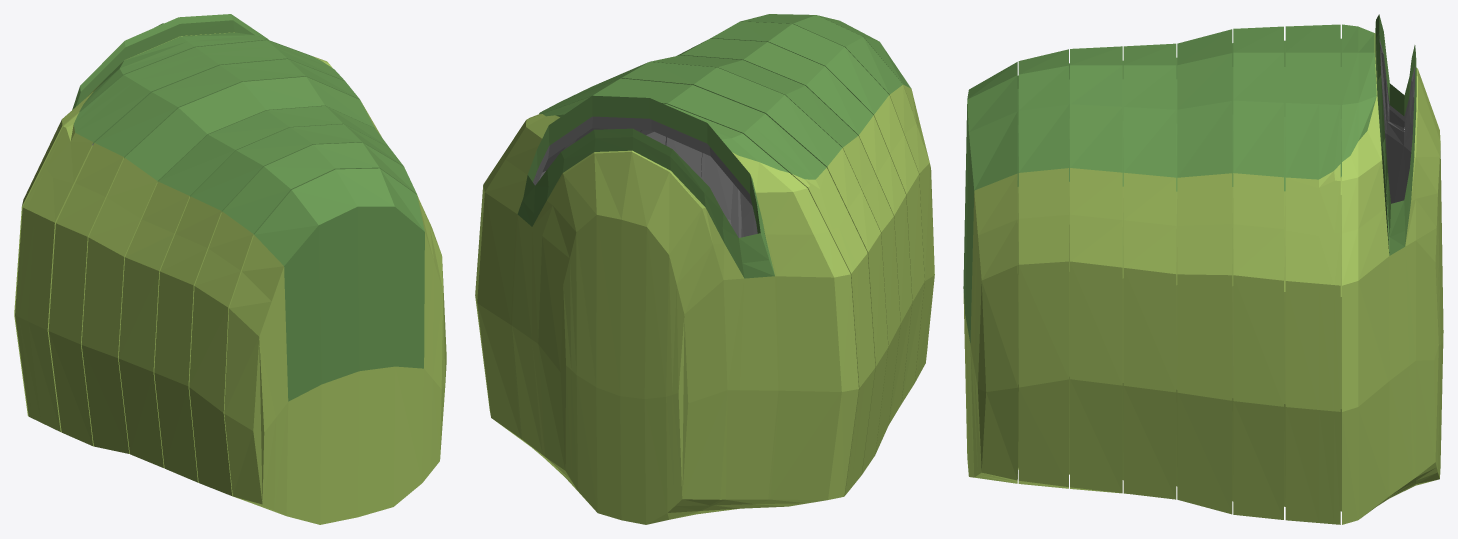
File: sh-scopia-sleeping-bag.glb
3 renders of one model, left to right at view 1: azimuth 30°, elevation 25°; view 2: azimuth 150°, elevation 25°; view 3: azimuth 270°, elevation 25°, orthographic. The views are drawn at different scales.
Parts seen in each view (by area): view 1: Circle; view 2: Circle; view 3: Circle.
Part boxes in pixels (left/top/right/bottom): Circle: left=14, top=14, right=446, bottom=524; Circle: left=475, top=14, right=934, bottom=524; Circle: left=963, top=14, right=1443, bottom=524.
Bounding box in the file's own units: 1 × 1 × 1.
